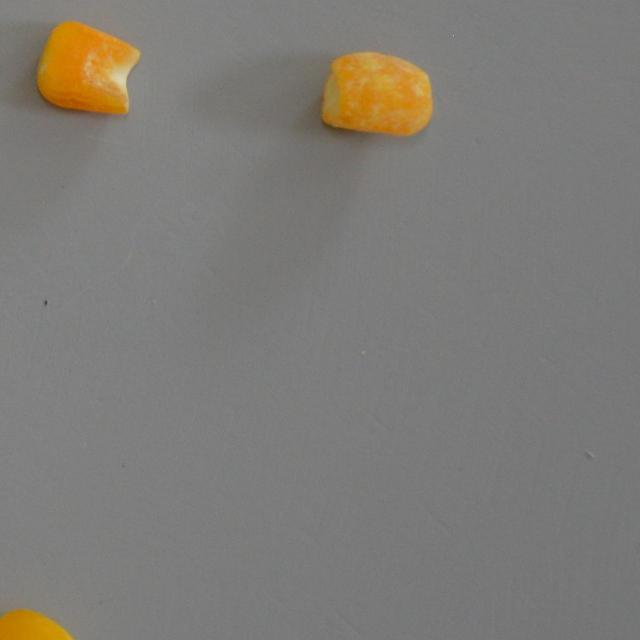no_canjicado: (0, 607, 84, 640)
pelicula: (32, 20, 144, 114), (319, 50, 432, 135)
